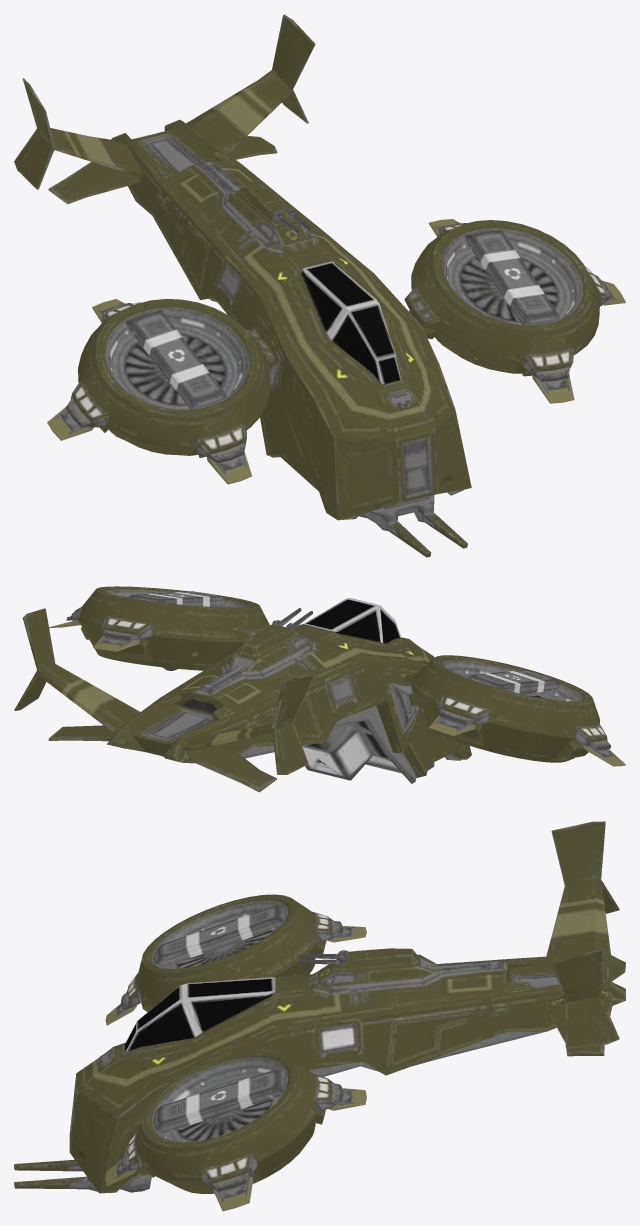
File: ship_copter.glb
3 renders of one model, top to bottom at view 1: azimuth 30°, elevation 25°; view 2: azimuth 150°, elevation 25°; view 3: azimuth 270°, elevation 25°, orthographic.
Visible parts, largest first — view 1: Object_2; view 2: Object_2; view 3: Object_2.
Part boxes in pixels (x1,y1,x2,y2): Object_2: [14, 14, 625, 557]; Object_2: [14, 586, 625, 792]; Object_2: [14, 821, 625, 1211].
Bounding box in the file's own units: 174 × 85.61 × 161.
1 material, 1 textured.
